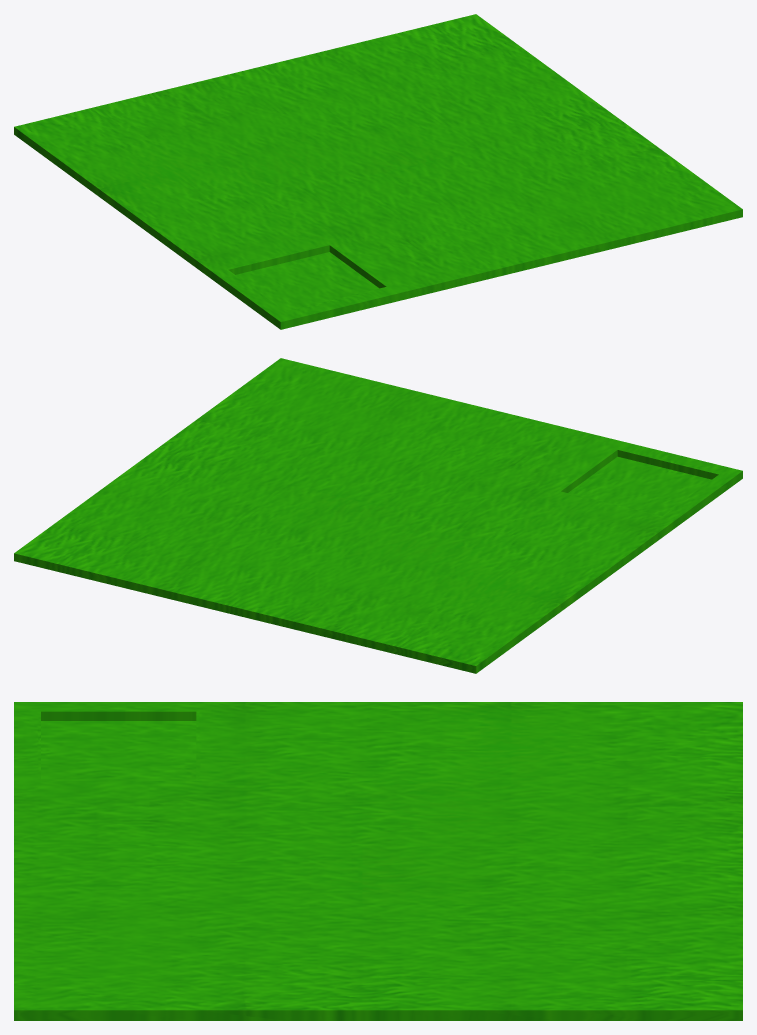
The model's file is TheLevel.obj.
The picture shows the model from 3 angles, top to bottom: view 1: azimuth 30°, elevation 25°; view 2: azimuth 150°, elevation 25°; view 3: azimuth 270°, elevation 25°; orthographic projection. The views are drawn at different scales.
Visible parts, largest first — view 1: ground.003_Cube.004; view 2: ground.003_Cube.004; view 3: ground.003_Cube.004.
Boxes of the visible parts, bbox=[...] form: ground.003_Cube.004: bbox=[14, 14, 742, 329]; ground.003_Cube.004: bbox=[14, 358, 742, 673]; ground.003_Cube.004: bbox=[14, 702, 742, 1020].
Bounding box in the file's own units: 26.21 × 0.4214 × 26.21.
